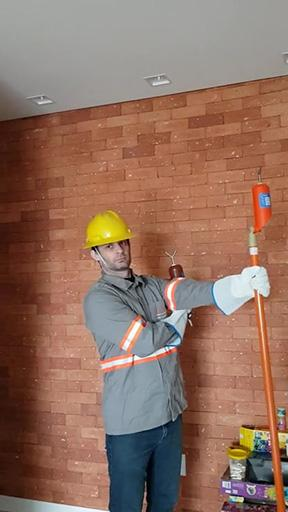Detector_Tensao_Contato: (163, 247, 188, 312), (251, 165, 272, 235)
Vara_Manobra: (245, 230, 288, 512)
